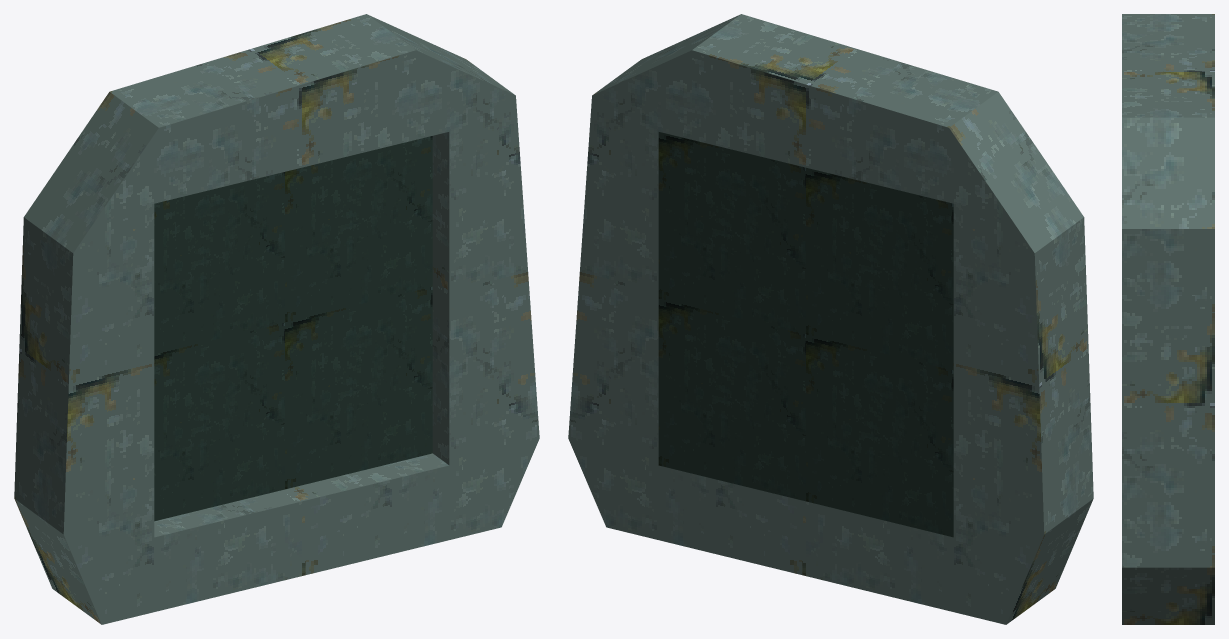
The model's file is memory-slab.glb.
The picture shows the model from 3 angles, left to right: view 1: azimuth 30°, elevation 25°; view 2: azimuth 150°, elevation 25°; view 3: azimuth 270°, elevation 25°; orthographic projection. The views are drawn at different scales.
Visible parts, largest first — view 1: Smara memory slab, Stone backing insert; view 2: Smara memory slab, Stone backing insert; view 3: Smara memory slab.
Boxes of the visible parts, x1,y1,x2,y2 form: Smara memory slab: [14, 14, 539, 624]; Stone backing insert: [154, 136, 432, 521]; Smara memory slab: [568, 14, 1093, 624]; Stone backing insert: [658, 132, 953, 537]; Smara memory slab: [1122, 14, 1214, 624].
Size of the model in its own units: 1 by 1 by 0.18.
Materials: 2 (2 with a texture image).
